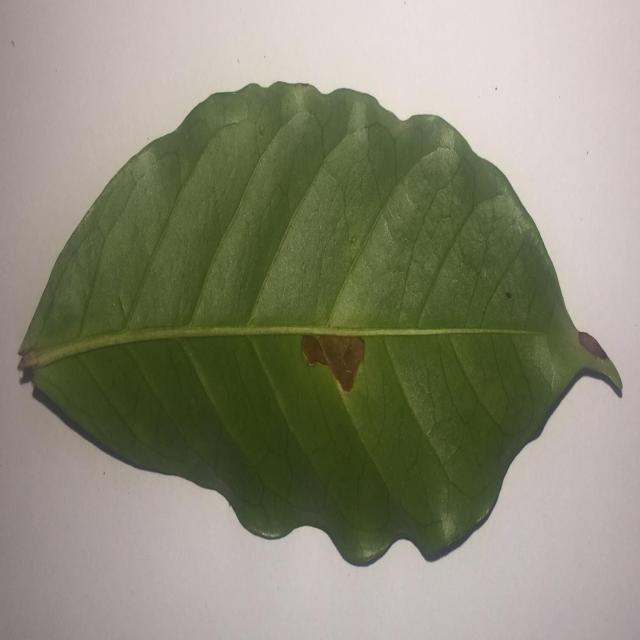Plaga-Minador: (17, 82, 623, 570)
